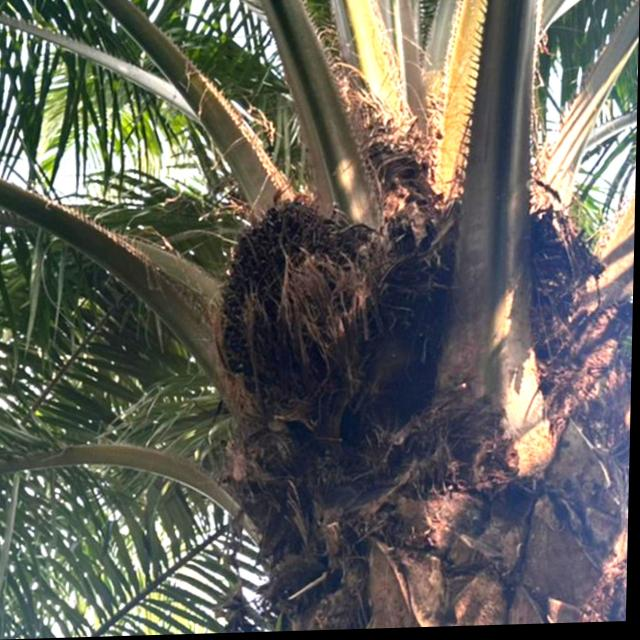almost: (218, 196, 357, 383)
